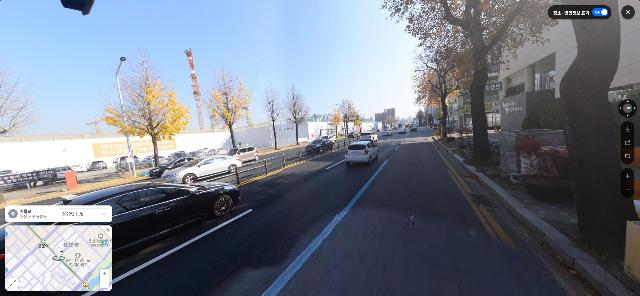ginkgo: (97, 51, 190, 166), (206, 64, 253, 148)
other: (380, 1, 564, 160), (560, 1, 634, 256), (412, 44, 472, 140), (259, 82, 284, 150), (284, 84, 309, 145)
